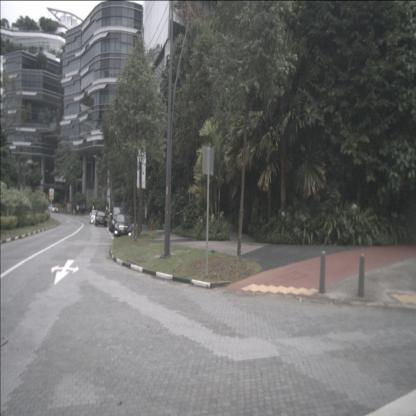human-pedestrian-adult: (76, 204, 79, 215), (106, 204, 108, 216), (92, 204, 94, 215), (83, 203, 85, 214), (81, 204, 82, 213)
vehicle-car: (114, 213, 132, 240), (109, 206, 126, 233), (95, 210, 107, 227), (89, 210, 101, 224), (48, 204, 58, 213)
